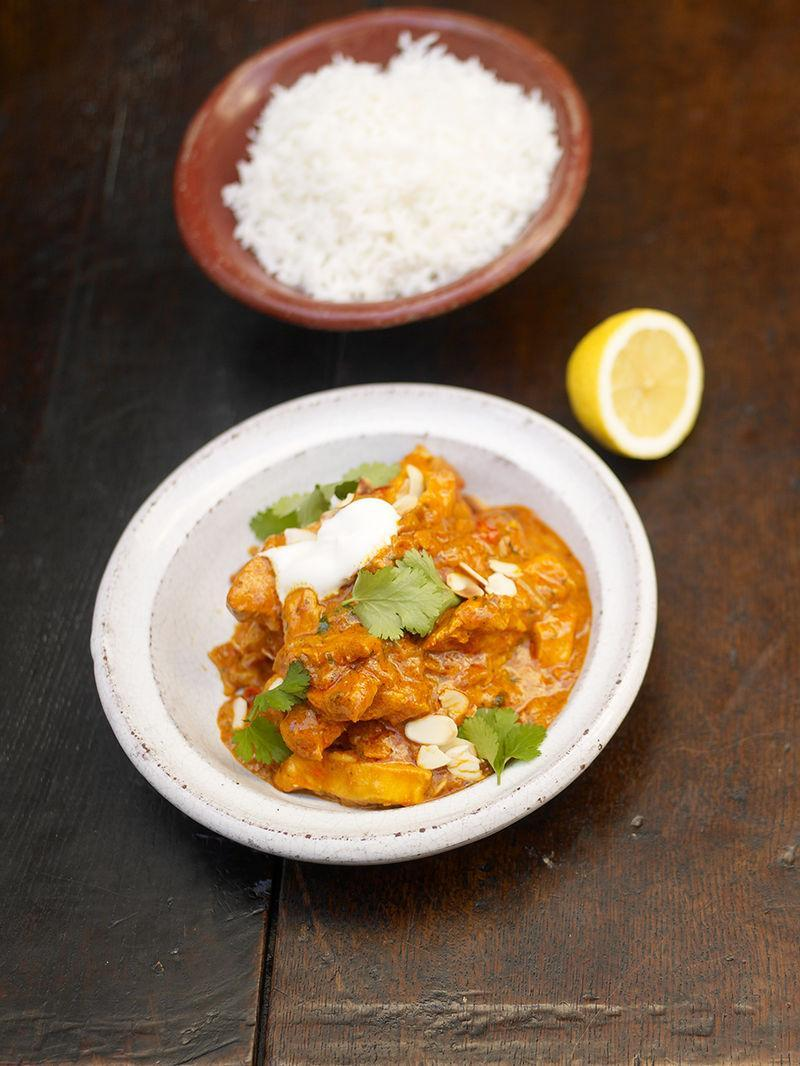chicken: (213, 468, 577, 789)
rice: (257, 102, 533, 282)
